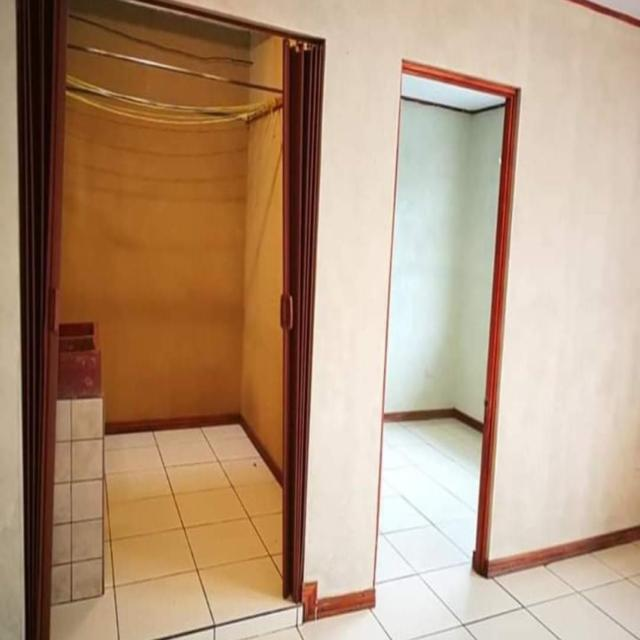OpenDoor: (17, 0, 299, 604), (380, 58, 522, 612)
